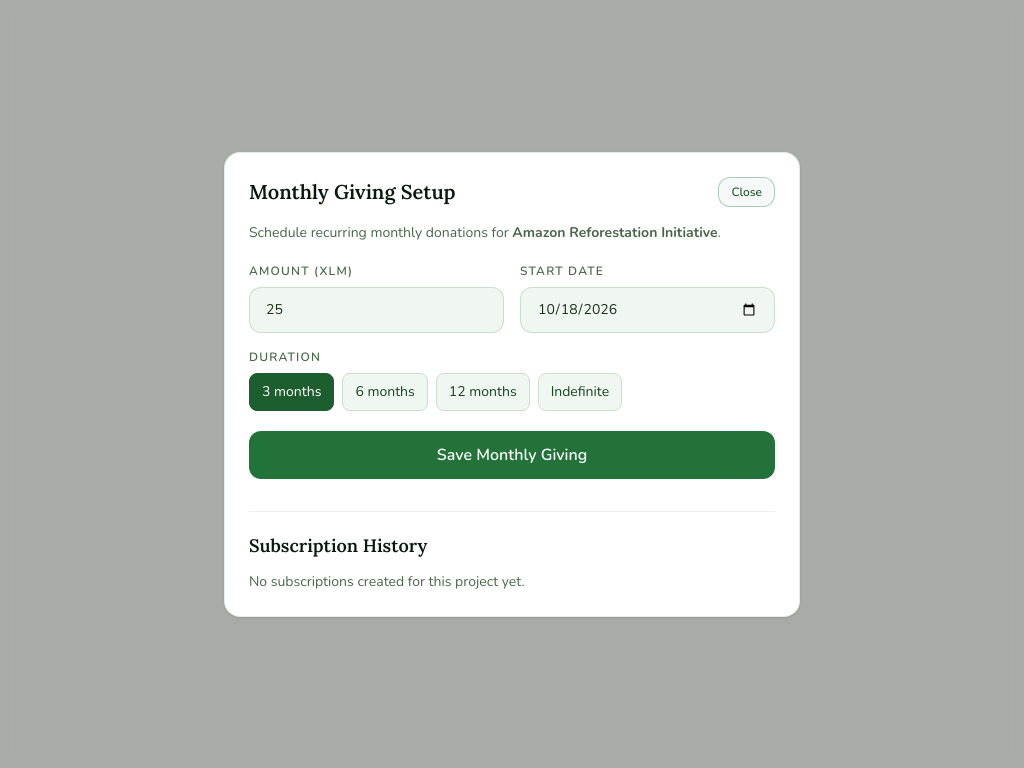
Test: MonthlyGivingSetup › shows the selected custom amount and duration in the confirmation
The image size is (1024, 768).
Replace the text in the number field labelled "Amount (XLM)" with "40" at {"x": 376, "y": 310}, box [249,286,504,332]
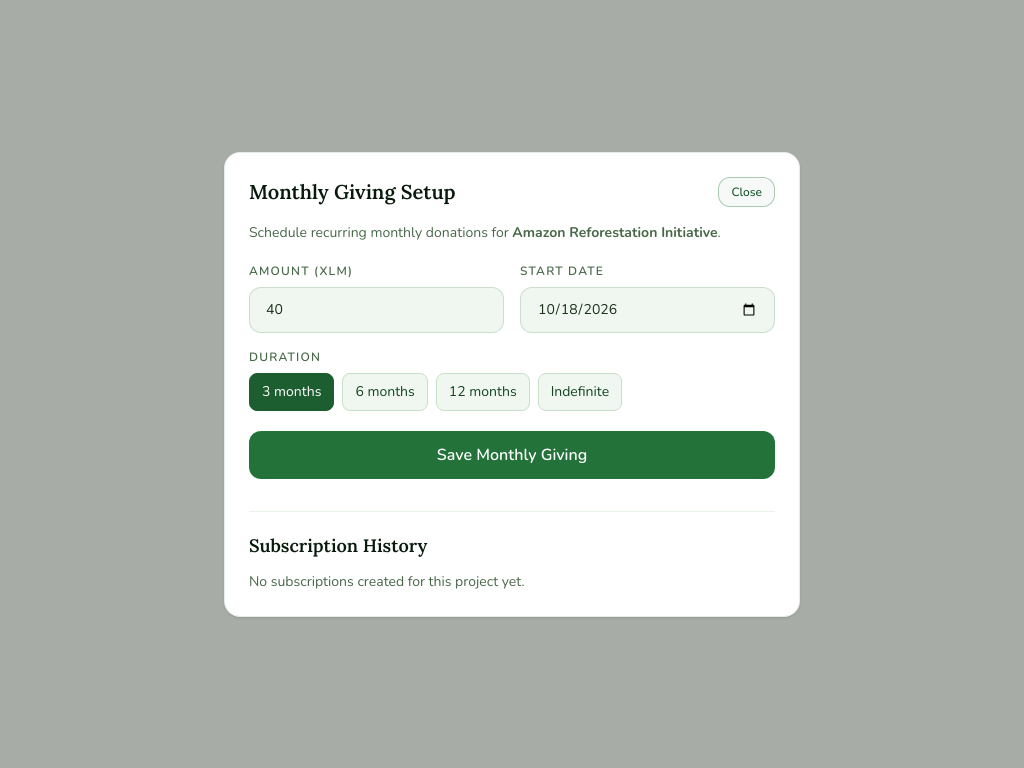
Click the button "6 months" at {"x": 385, "y": 392}, box [342,372,428,410]
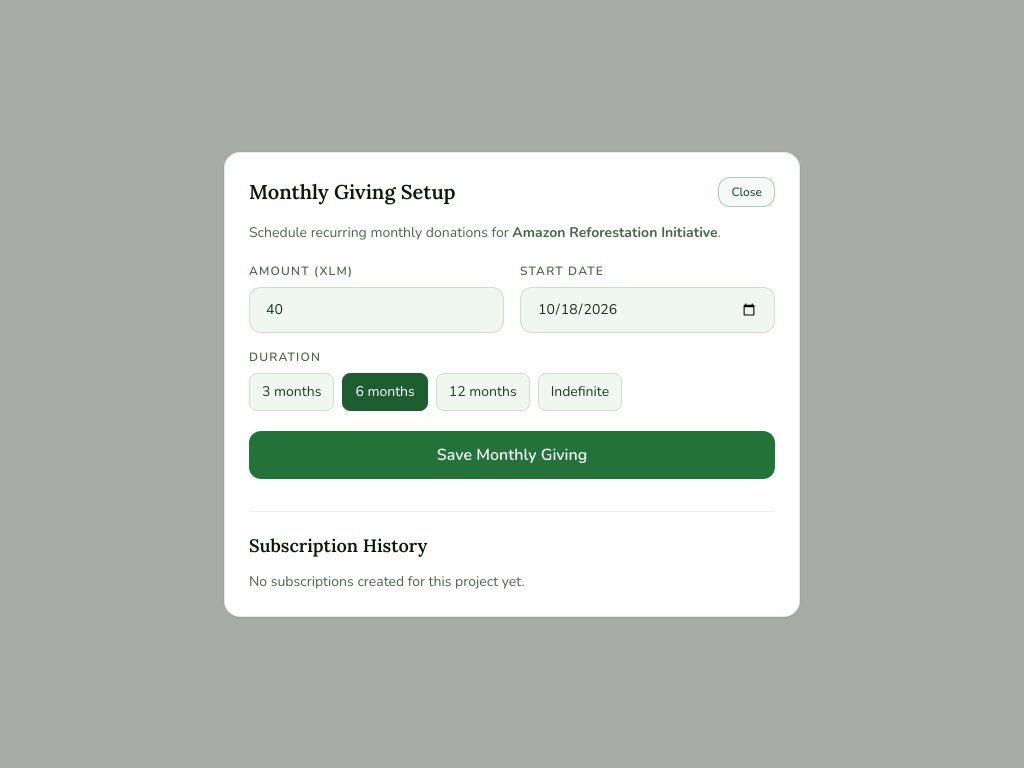
Type "2026-12-31" into the date field labelled "Start Date" at {"x": 648, "y": 310}, box [520,286,775,332]
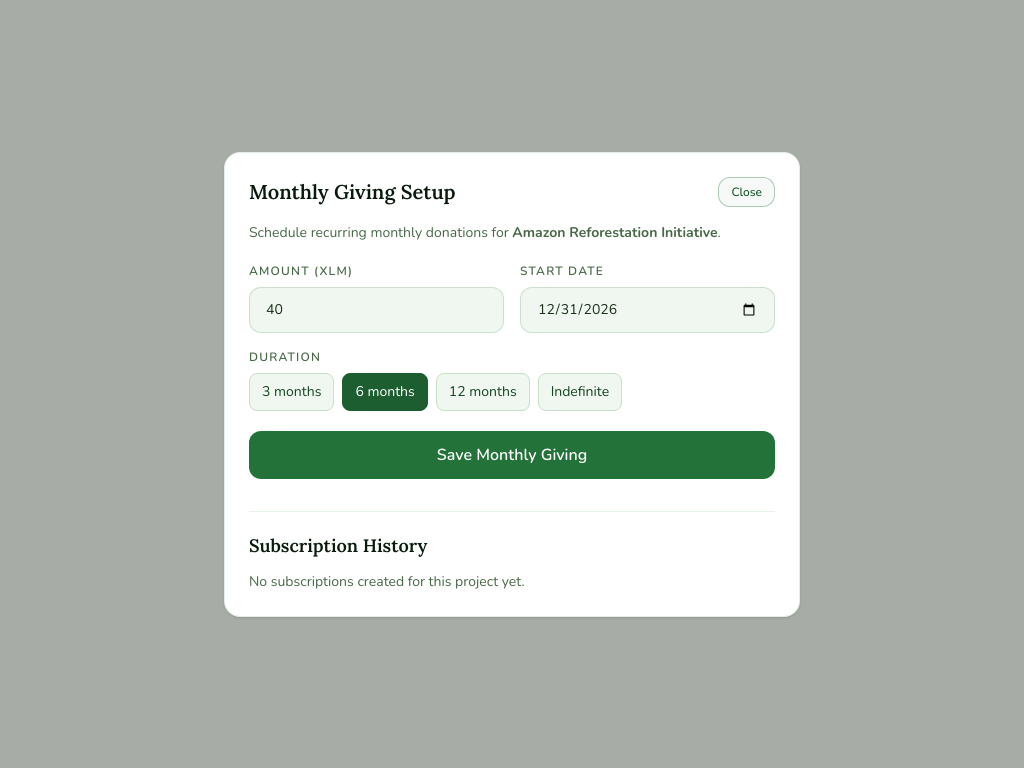
Click the button "Save Monthly Giving" at {"x": 512, "y": 454}, box [249,430,775,478]
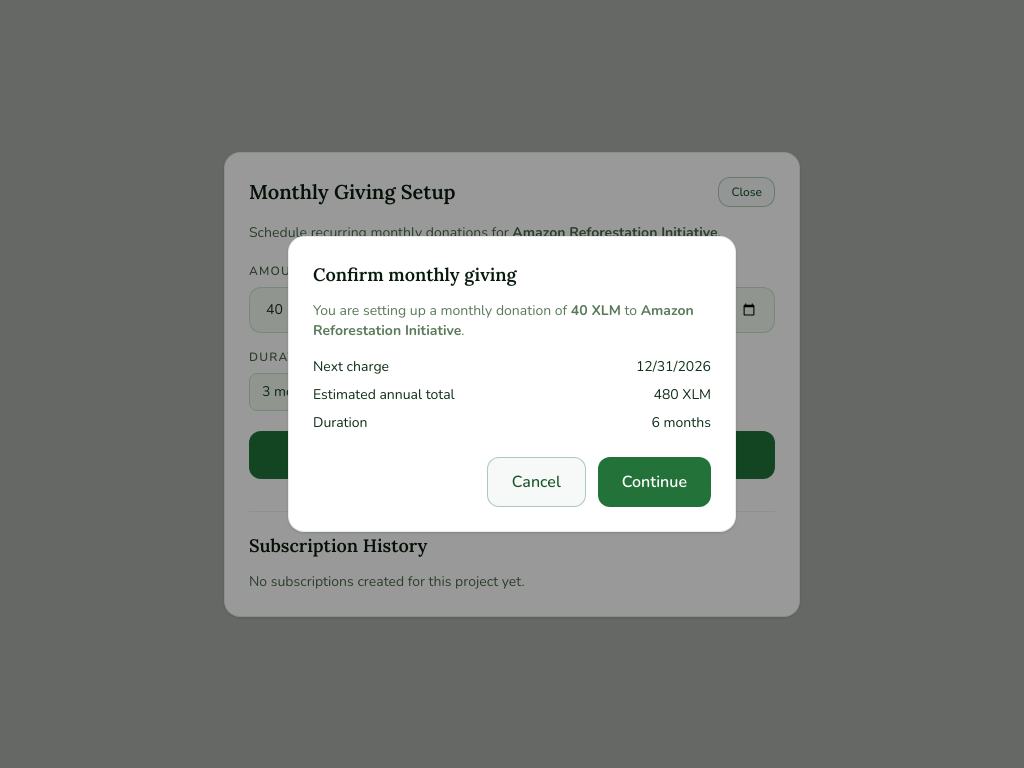
Expected: the dialog "Confirm monthly giving" is shown
Expected: the text "40 XLM" is shown, [571,301,621,320]
Expected: the text "6 months" is shown, [652,413,711,433]
Cancelling the confirmation returns to the form without submitting.
Click the button "Cancel" at {"x": 536, "y": 482}, box [487,457,586,507]
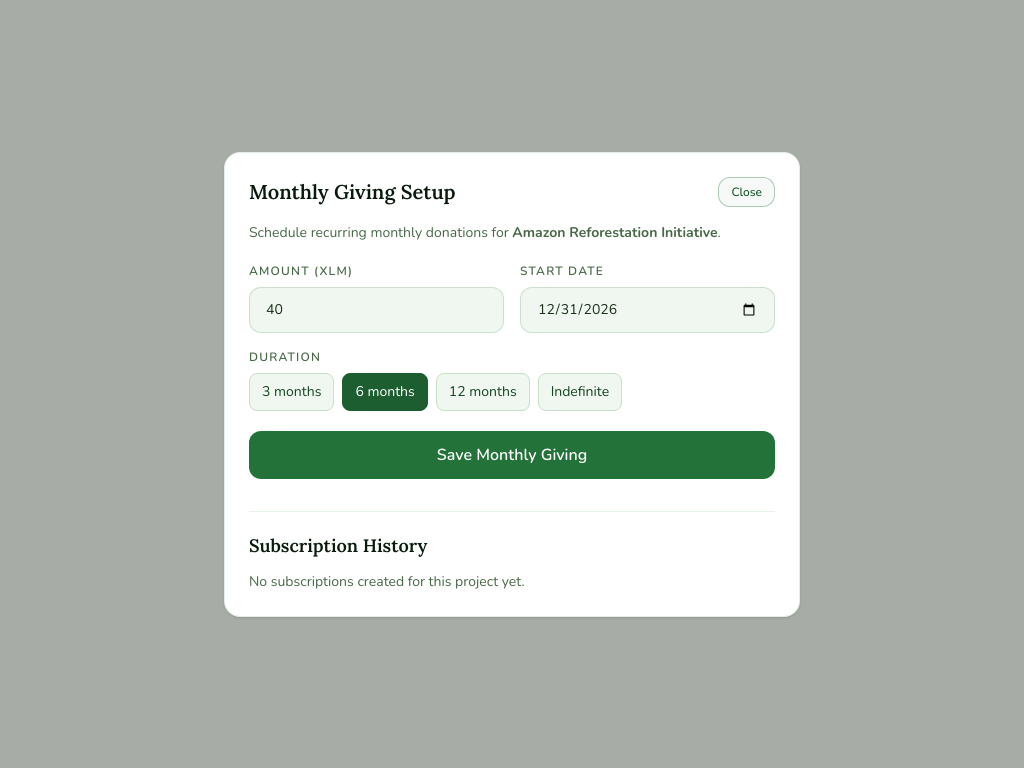
Expected: the dialog is gone
